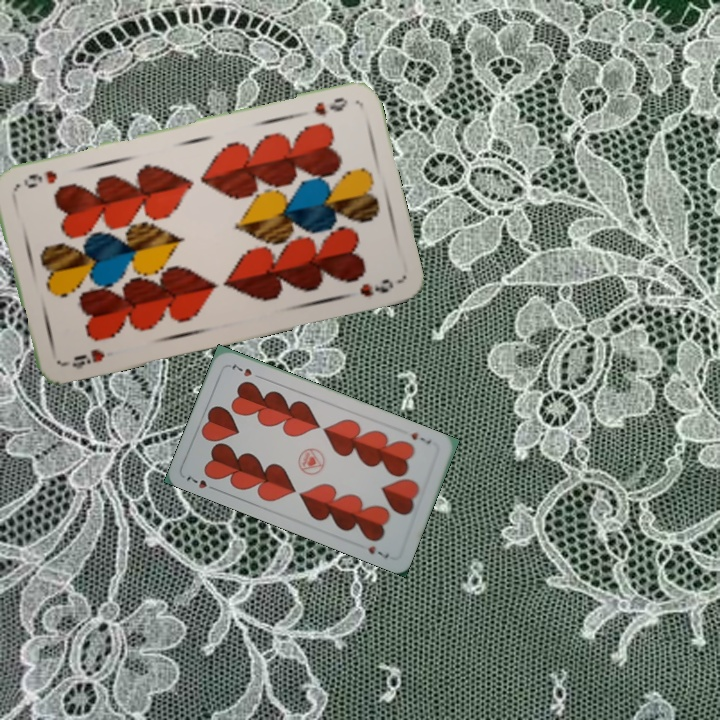H7: (182, 472, 220, 494), (407, 428, 434, 447)
H9: (59, 345, 108, 372), (310, 93, 351, 119)
